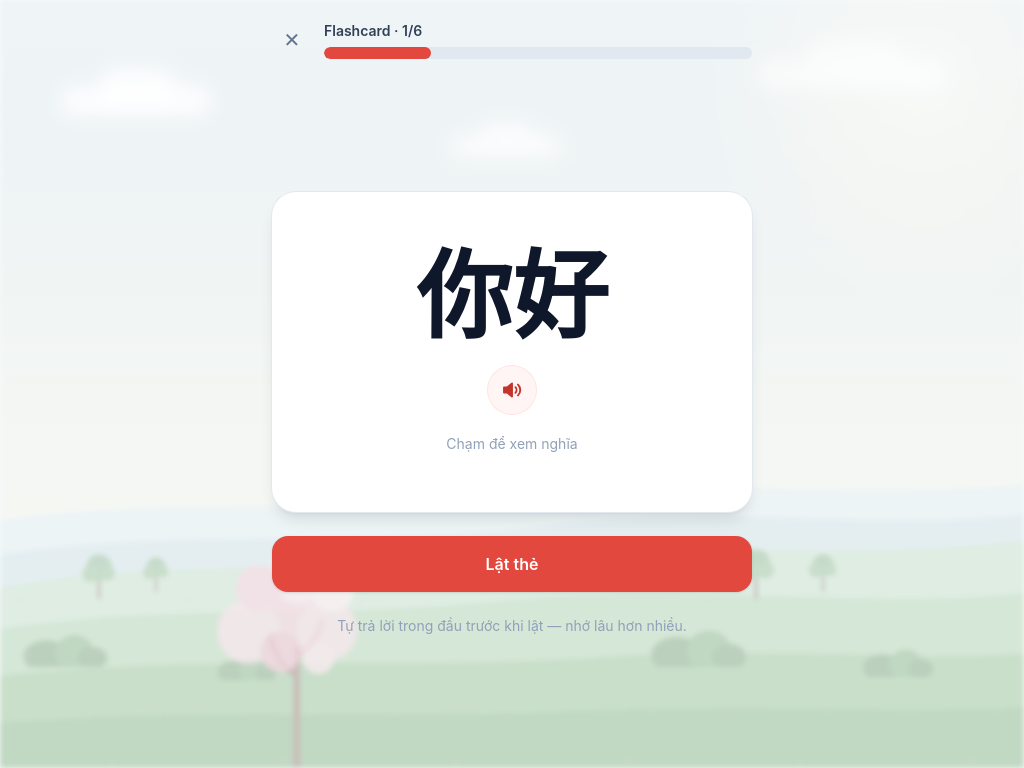
Flashcard › đánh giá xong thì sang thẻ kế tiếp
The image size is (1024, 768).
Expected: the text "Flashcard · 1/6" is shown, left=324, top=22, right=422, bottom=39
Click the button "Lật thẻ" at (512, 564), box left=272, top=536, right=752, bottom=592
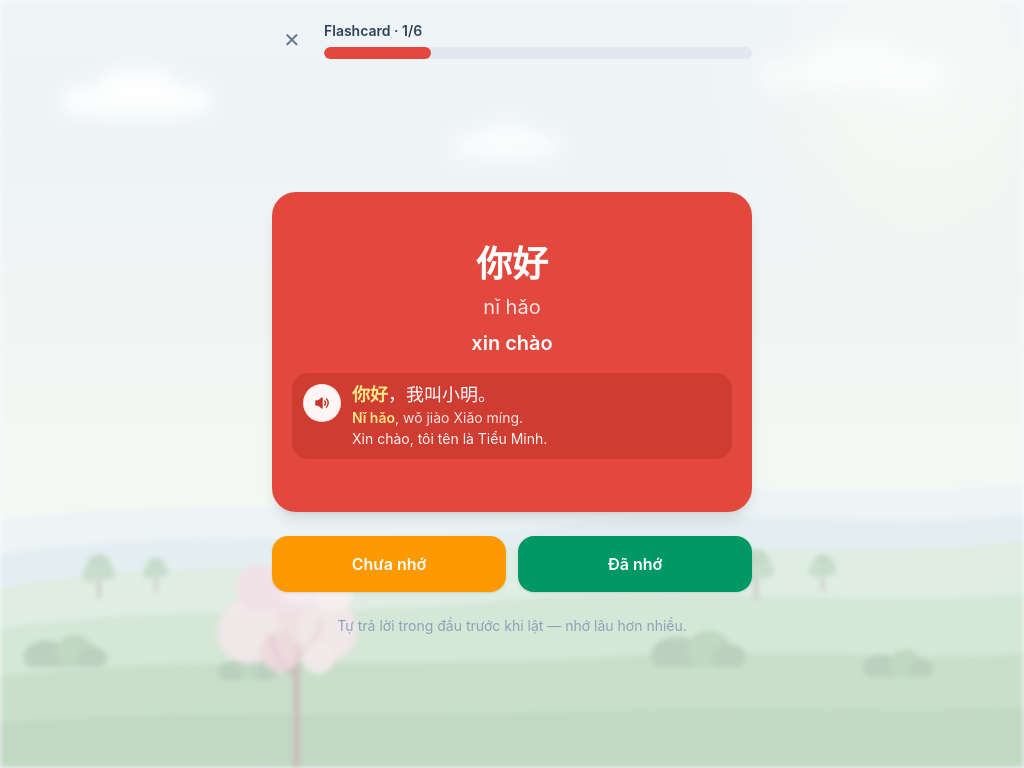
Click the button "Đã nhớ" at (635, 564), box left=518, top=536, right=752, bottom=592
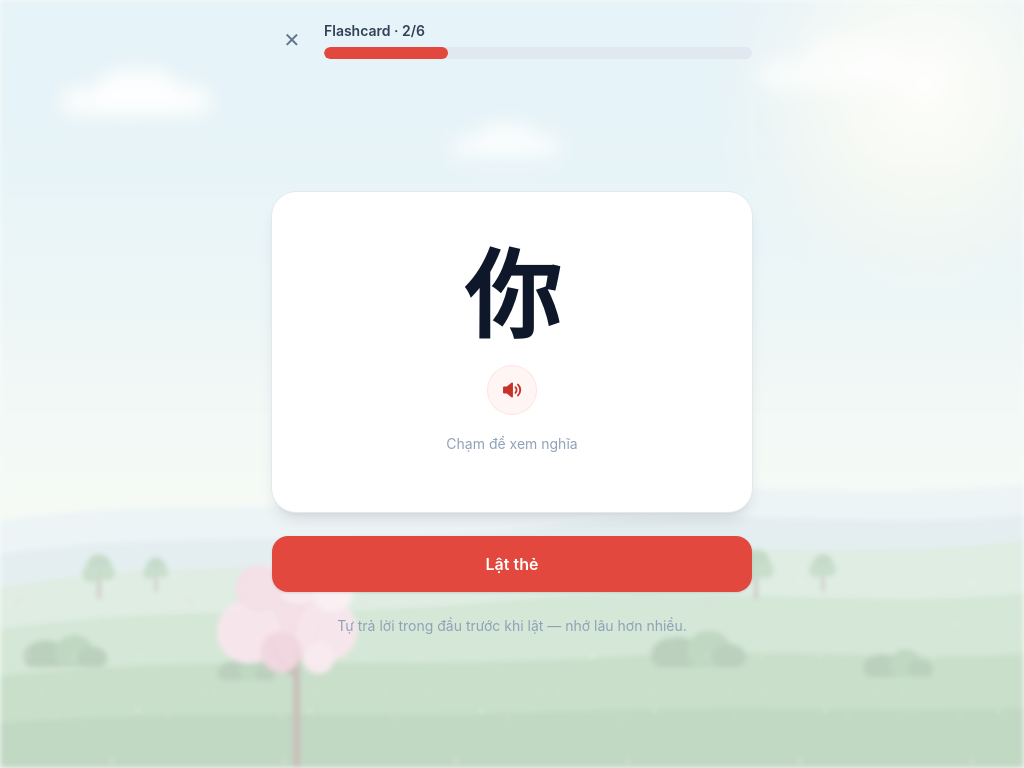
Result: the text "Flashcard · 2/6" is shown at left=324, top=22, right=425, bottom=39
